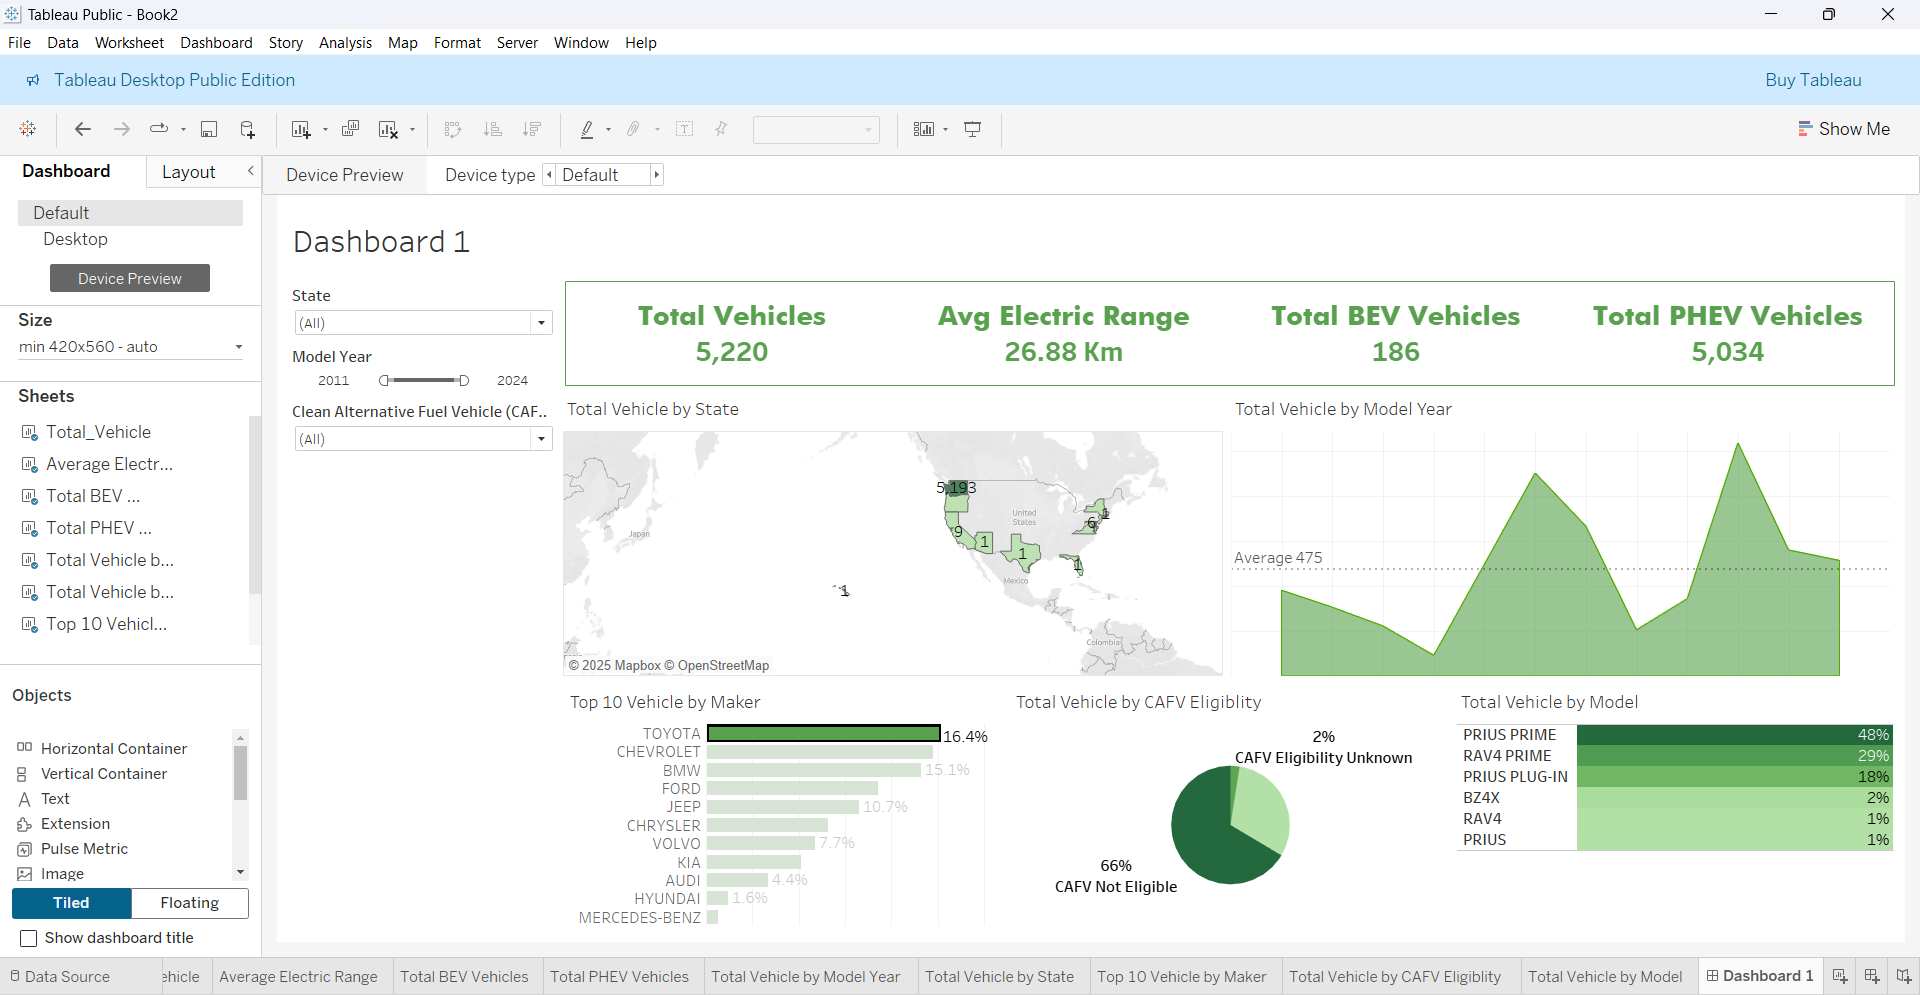

Layout of this report page (visuals, bound fields, positions):
{"tool":"tableau","page":{"name":"Dashboard 1","canvas":[1000,1000],"units":"permille","ordinal":0},"visuals":[{"type":"title","box":[4.9,10.7,990.2,99.1]},{"type":"filter","title":"Total Vehicle by State","param":"[federated.142s8zk0gyhqq31e3g1nz0dw8cta].[none:State:nk]","box":[6.8,115.1,167.1,81.7]},{"type":"worksheet","title":"Total_Vehicle","mark":"Automatic","box":[177.5,116.5,203.9,137.9]},{"type":"worksheet","title":"Average Electric Range","mark":"Automatic","box":[381.4,116.5,203.9,137.9]},{"type":"worksheet","title":"Total BEV Vehicles","mark":"Automatic","box":[585.4,116.5,203.9,137.9]},{"type":"worksheet","title":"Total PHEV Vehicles","mark":"Automatic","box":[789.3,116.5,203.9,137.9]},{"type":"filter","title":"Total Vehicle by Model Year","param":"[federated.142s8zk0gyhqq31e3g1nz0dw8cta].[none:Model Year:qk]","box":[6.8,196.8,167.1,73.6]},{"type":"worksheet","title":"Total Vehicle by State","mark":"Multipolygon","box":[173.2,258.4,410.3,390.9]},{"type":"worksheet","title":"Total Vehicle by Model Year","mark":"Area","rows":["Calculation_3065262525928427520"],"cols":["Model Year"],"box":[583.5,258.4,409.7,390.9]},{"type":"filter","title":"Total Vehicle by CAFV Eligiblity","param":"[federated.142s8zk0gyhqq31e3g1nz0dw8cta].[none:Clean Alternative Fuel Vehicle (C","box":[6.8,270.4,167.1,81.7]},{"type":"worksheet","title":"Top 10 Vehicle by Maker","mark":"Automatic","rows":["Maker"],"cols":["Calculation_3065262525928427520"],"box":[175.1,650.6,274,333.3]},{"type":"worksheet","title":"Total Vehicle by CAFV Eligiblity","mark":"Pie","box":[449,650.6,273.3,333.3]},{"type":"worksheet","title":"Total Vehicle by Model","mark":"Square","rows":["Model"],"box":[722.4,650.6,273.3,333.3]}]}

Visuals, with their boxes on the dashboard's canvas, which has no fixed pixel size, in thousandths of its width and height (x1, y1, x2, y2). These are canvas units, not pixel positions in the 1920x995 screenshot, which may show the page scaled, cropped or inside an application window:
title: select_region(5, 11, 995, 110)
"Total Vehicle by State" filter: select_region(7, 115, 174, 197)
"Total_Vehicle" worksheet: select_region(178, 116, 381, 254)
"Average Electric Range" worksheet: select_region(381, 116, 585, 254)
"Total BEV Vehicles" worksheet: select_region(585, 116, 789, 254)
"Total PHEV Vehicles" worksheet: select_region(789, 116, 993, 254)
"Total Vehicle by Model Year" filter: select_region(7, 197, 174, 270)
"Total Vehicle by State" worksheet (Multipolygon marks): select_region(173, 258, 584, 649)
"Total Vehicle by Model Year" worksheet (Area marks): select_region(584, 258, 993, 649)
"Total Vehicle by CAFV Eligiblity" filter: select_region(7, 270, 174, 352)
"Top 10 Vehicle by Maker" worksheet: select_region(175, 651, 449, 984)
"Total Vehicle by CAFV Eligiblity" worksheet (Pie marks): select_region(449, 651, 722, 984)
"Total Vehicle by Model" worksheet (Square marks): select_region(722, 651, 996, 984)
